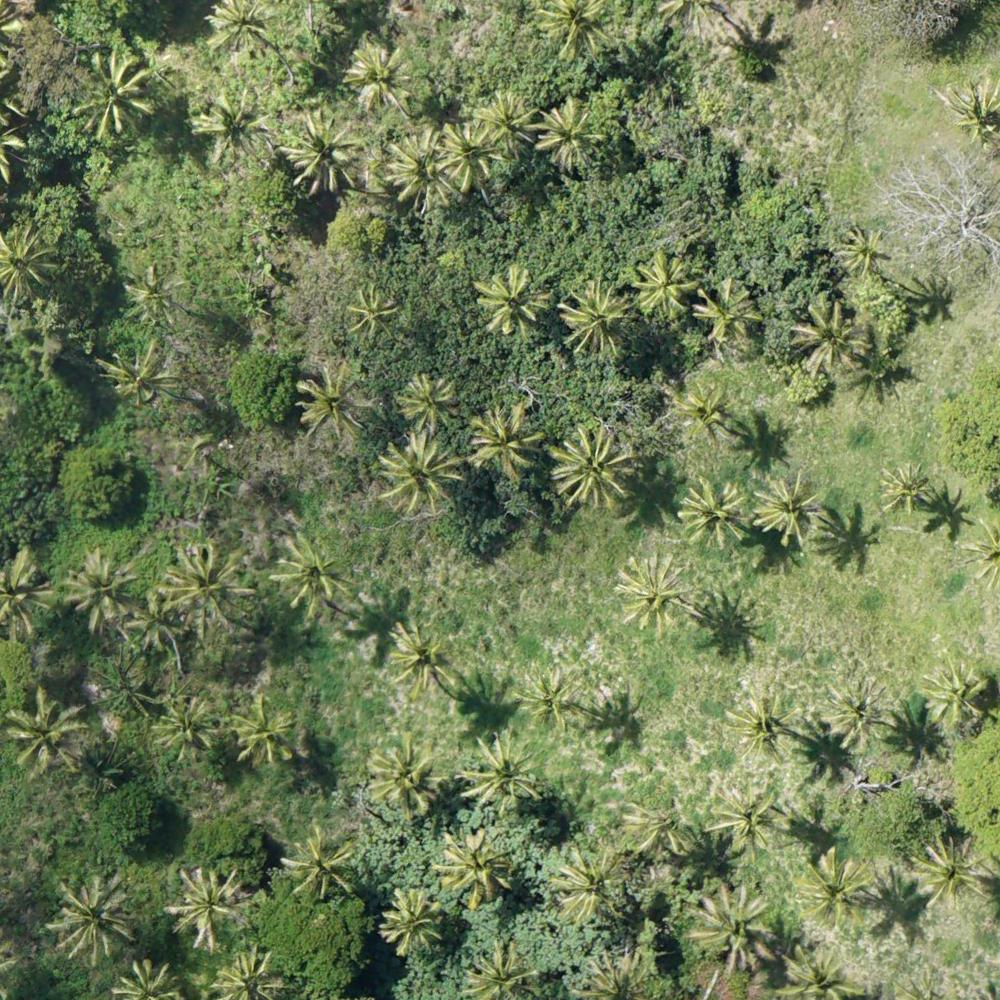Palm: (545, 421, 636, 511), (52, 872, 141, 962), (154, 544, 248, 629), (693, 884, 775, 973), (456, 731, 546, 811), (281, 111, 368, 191), (363, 736, 447, 815), (170, 863, 248, 948), (295, 357, 374, 440), (74, 52, 157, 130), (272, 533, 357, 609), (613, 556, 696, 633), (8, 689, 80, 776), (706, 777, 786, 855), (797, 846, 876, 924), (434, 829, 513, 906), (382, 431, 458, 511), (189, 85, 271, 159), (378, 134, 454, 213), (476, 262, 553, 339), (534, 1, 625, 66), (473, 400, 545, 479), (675, 479, 754, 550), (283, 826, 357, 901), (557, 279, 630, 355), (552, 846, 623, 924), (814, 680, 892, 751), (63, 550, 137, 624), (96, 340, 176, 408), (753, 472, 826, 546), (790, 304, 868, 373), (918, 655, 989, 729), (342, 45, 417, 115), (385, 623, 458, 693), (437, 118, 501, 195), (470, 89, 540, 159), (230, 696, 299, 767), (632, 250, 701, 318), (1, 226, 61, 304), (915, 832, 987, 897), (731, 688, 793, 763), (692, 275, 762, 341), (380, 884, 443, 954), (538, 99, 602, 165), (516, 666, 579, 733), (207, 1, 273, 62), (154, 701, 217, 760), (129, 262, 184, 328), (874, 459, 933, 516), (343, 284, 399, 344), (676, 382, 735, 438), (399, 376, 459, 426), (835, 225, 887, 276)
